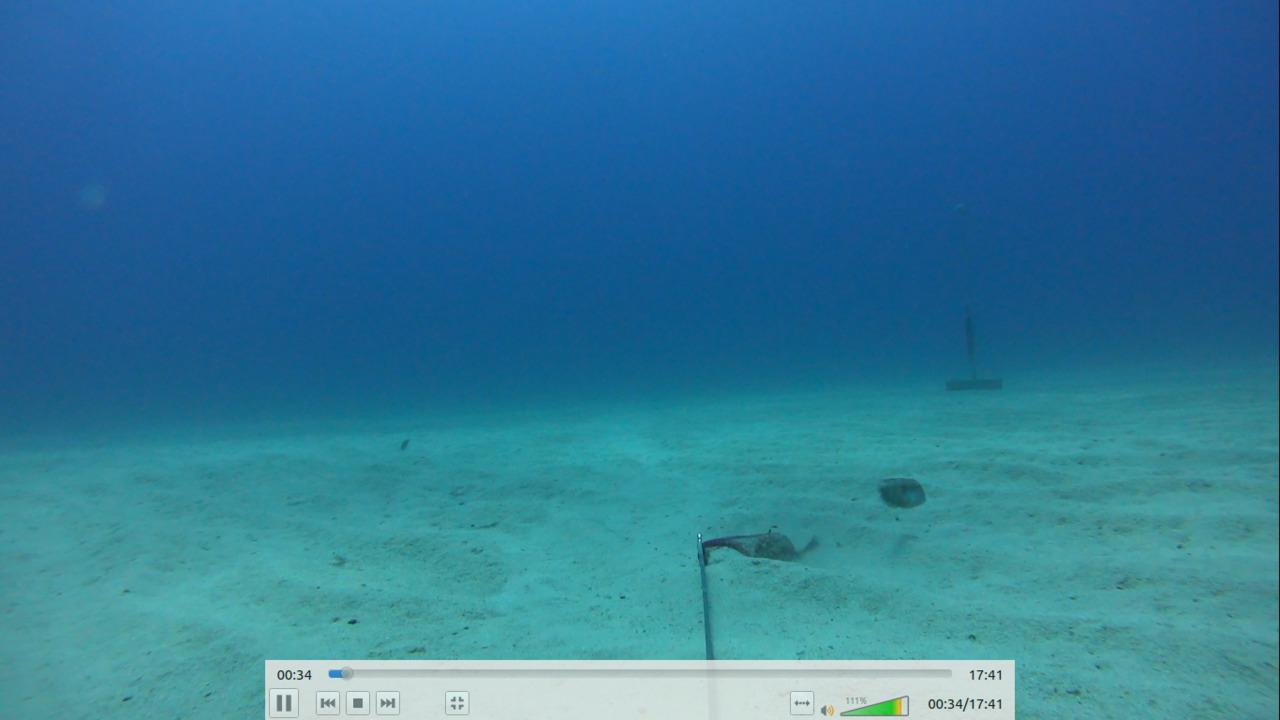raor: (871, 463, 941, 515)
